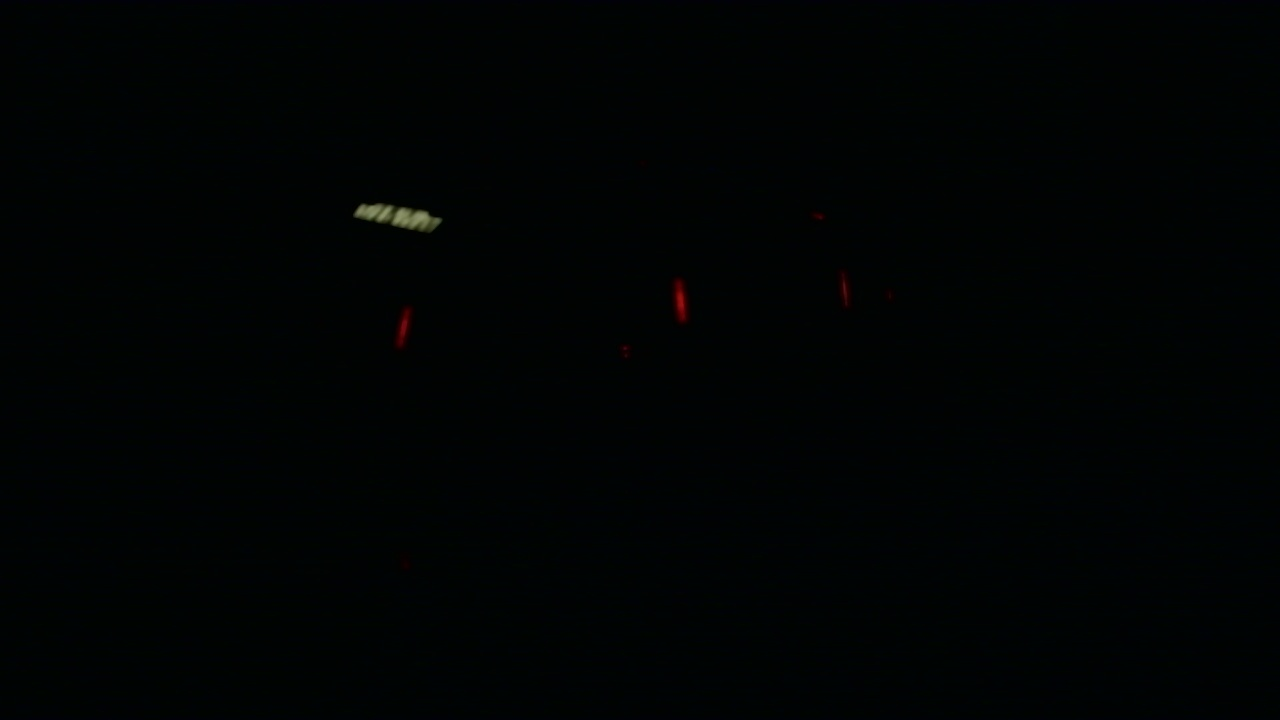lamp: (386, 307, 415, 343), (673, 278, 691, 314)
notpair2: (389, 279, 691, 346)
pair2: (672, 275, 847, 319)
